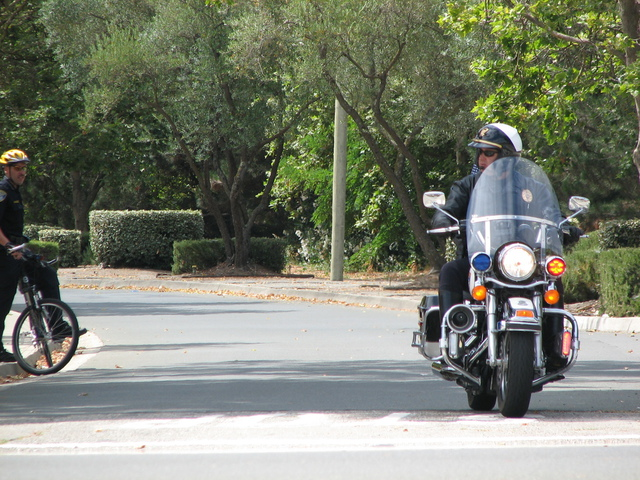helmet: (467, 126, 521, 163)
